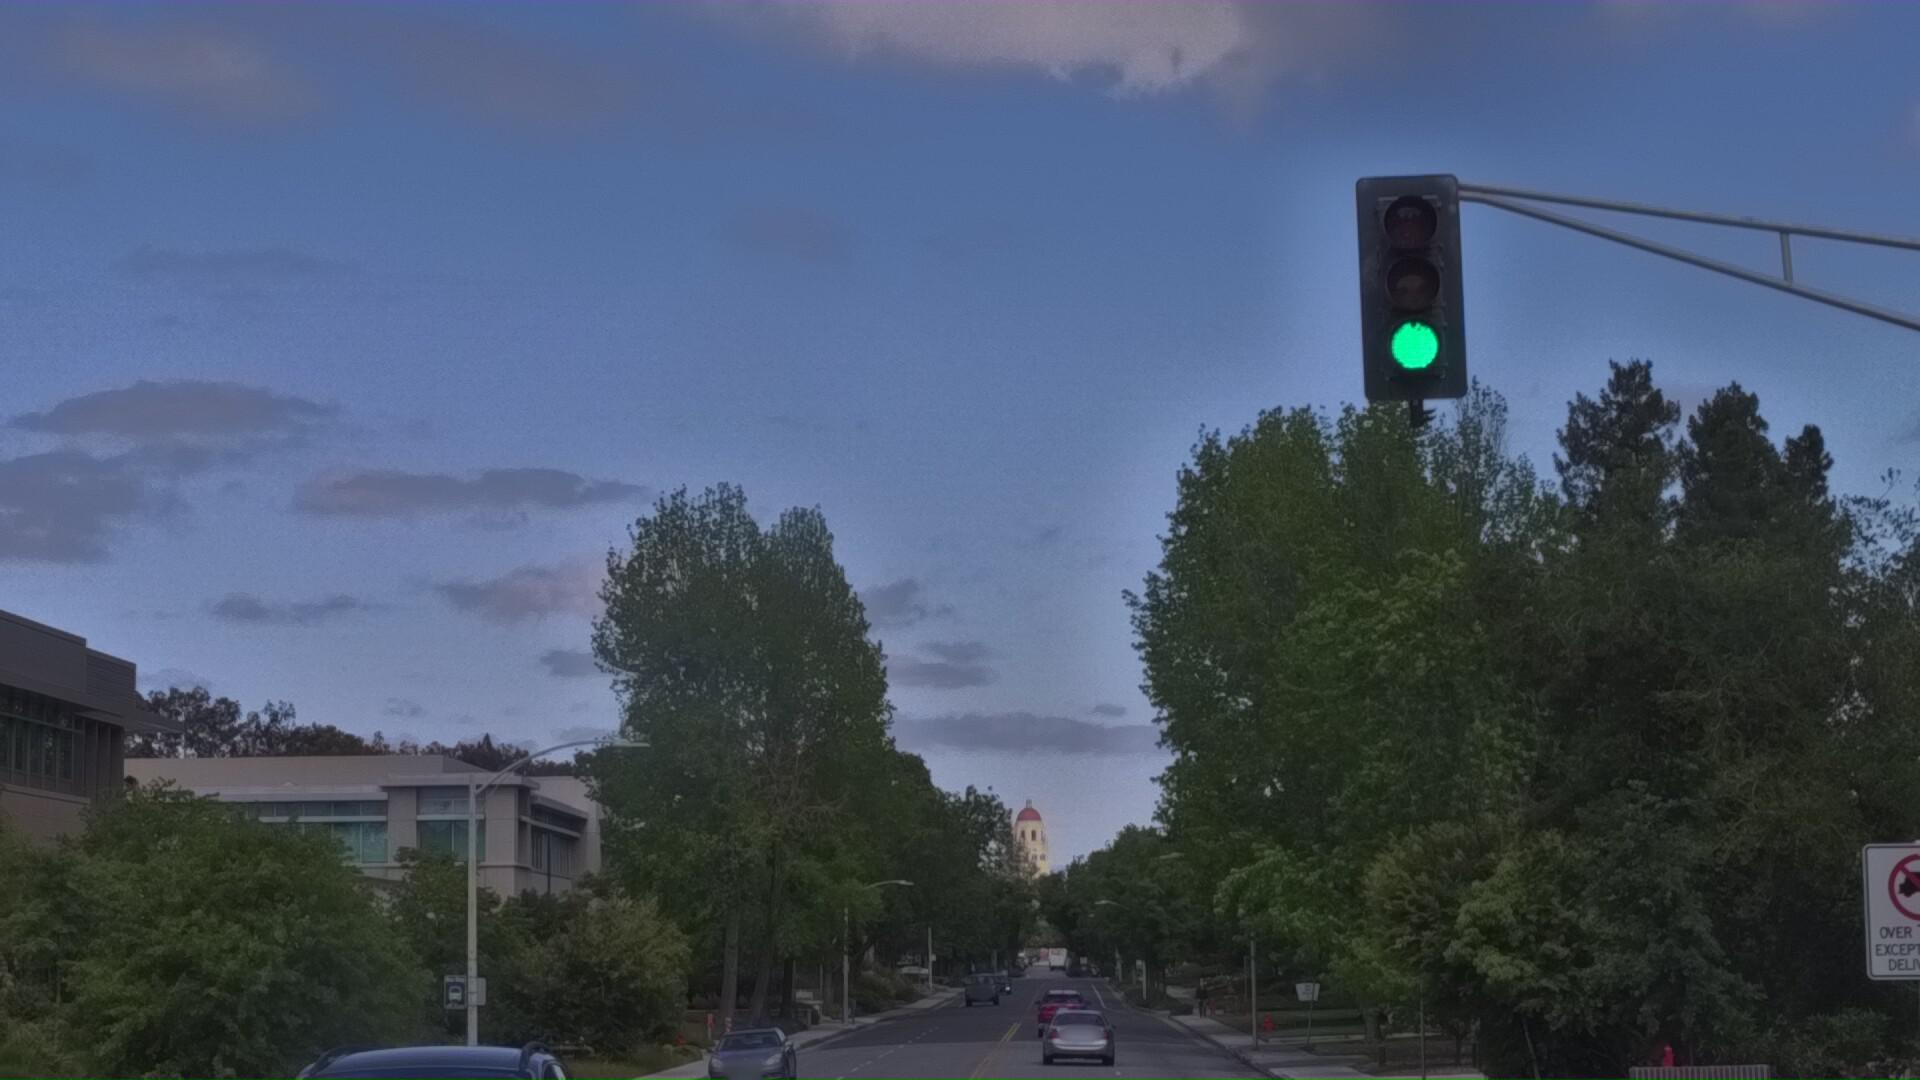car: (171, 1035, 654, 1080), (698, 1059, 804, 1080)
